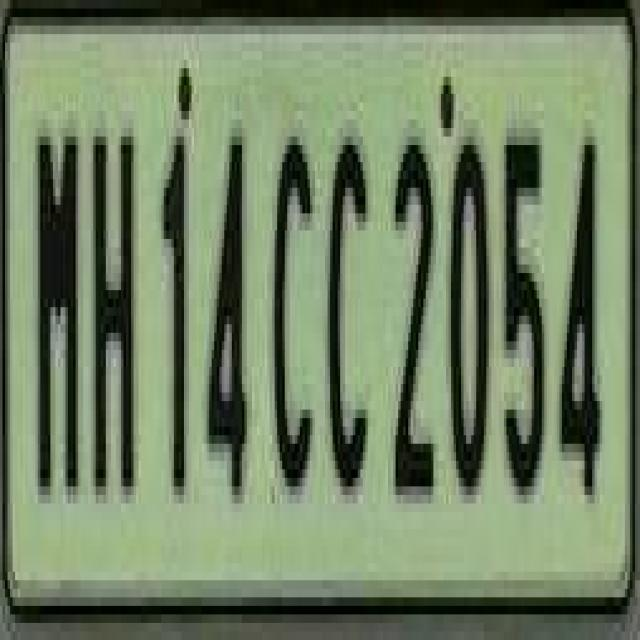license_plate: (17, 34, 640, 623)
